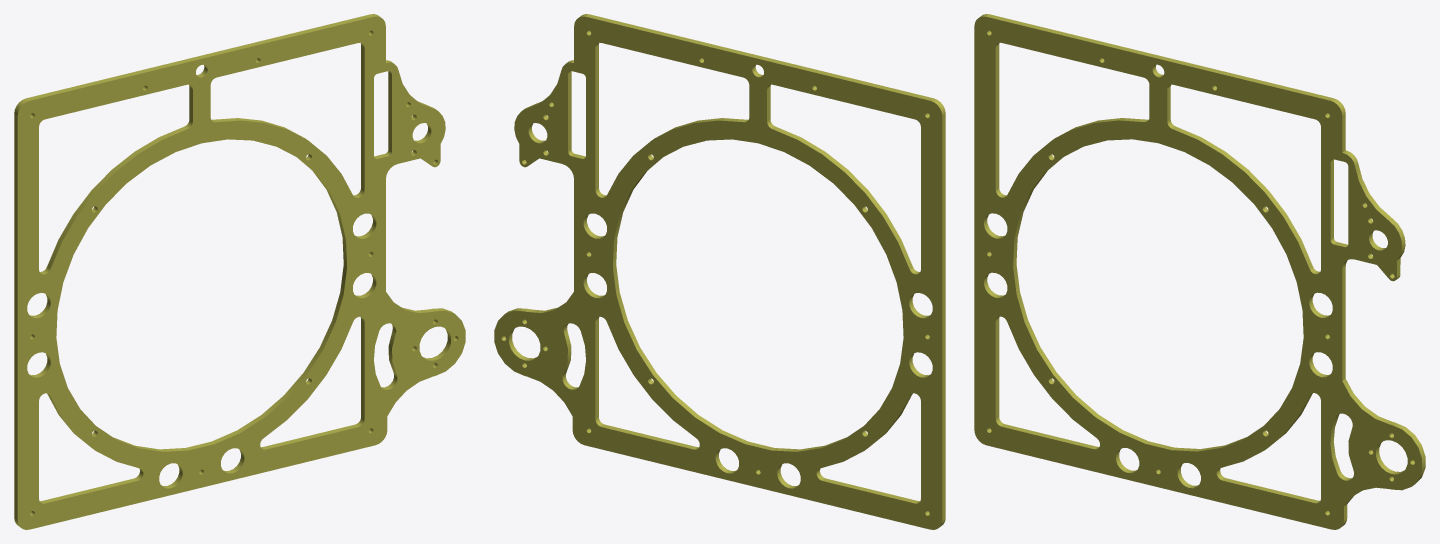
Rendered from 大轴承板.FBX.
The picture shows the model from 3 angles, left to right: view 1: azimuth 30°, elevation 25°; view 2: azimuth 150°, elevation 25°; view 3: azimuth 330°, elevation 25°; orthographic projection.
Parts seen in each view (by area): view 1: 圆角13; view 2: 圆角13; view 3: 圆角13.
Part boxes in pixels (left/top/right/bottom): 圆角13: left=14, top=14, right=465, bottom=529; 圆角13: left=494, top=14, right=945, bottom=529; 圆角13: left=974, top=14, right=1425, bottom=529.
Bounding box in the file's own units: 37.72 × 34.5 × 0.5.
